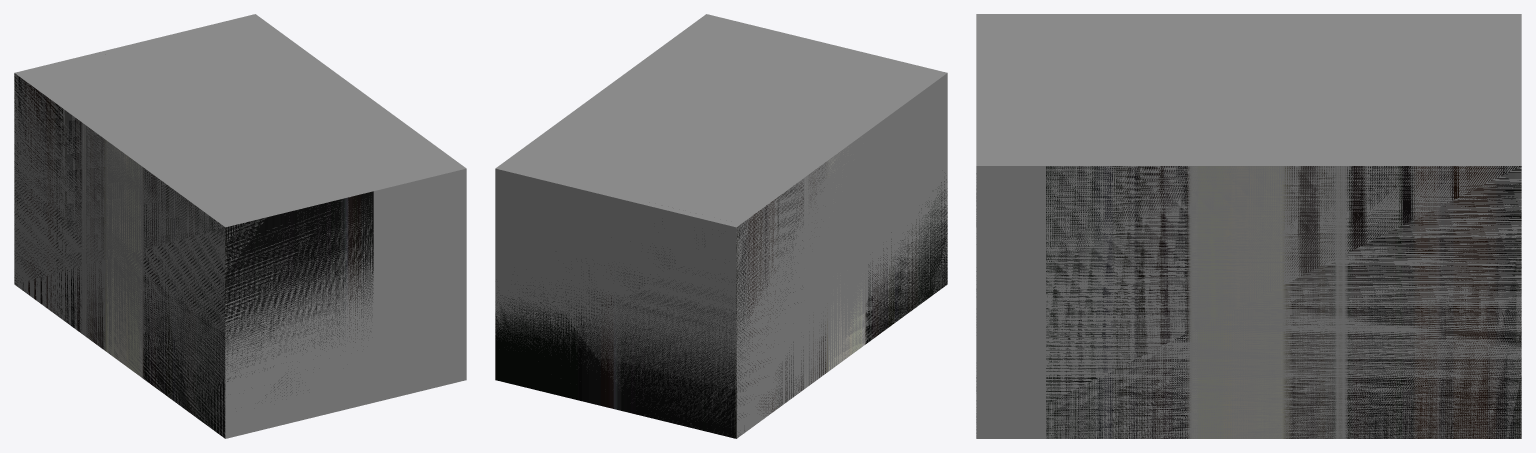
Rendered from coffee_machine.FBX.
3 renders of one model, left to right at view 1: azimuth 30°, elevation 25°; view 2: azimuth 150°, elevation 25°; view 3: azimuth 270°, elevation 25°, orthographic. The views are drawn at different scales.
Parts seen in each view (by area): view 1: bounds, colbox-1; view 2: bounds, colbox-1; view 3: bounds, colbox-1.
Boxes of the visible parts, x1,y1,x2,y2 form: bounds: (14,14,466,438); colbox-1: (14,73,373,438); bounds: (495,14,947,438); colbox-1: (495,147,947,438); bounds: (976,14,1521,438); colbox-1: (976,166,1521,438).
Bounding box in the file's own units: 49.58 × 41.55 × 75.17.
